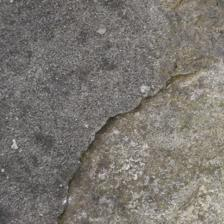Crack: (29, 35, 170, 180)
